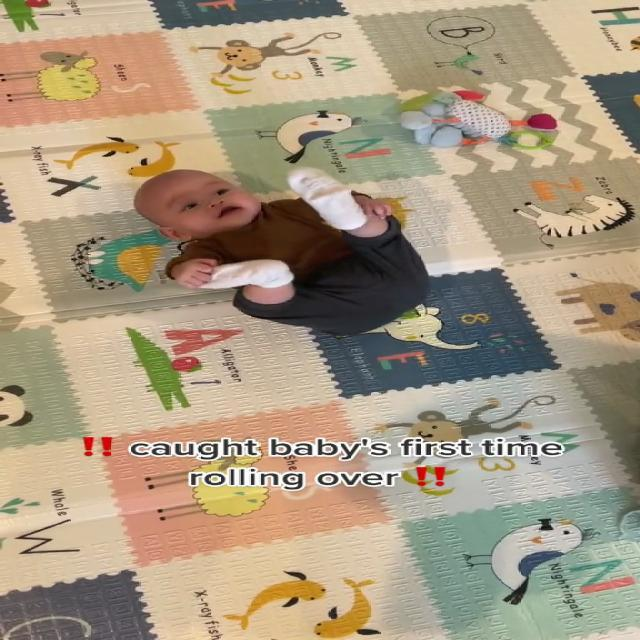baby: (126, 162, 441, 344)
